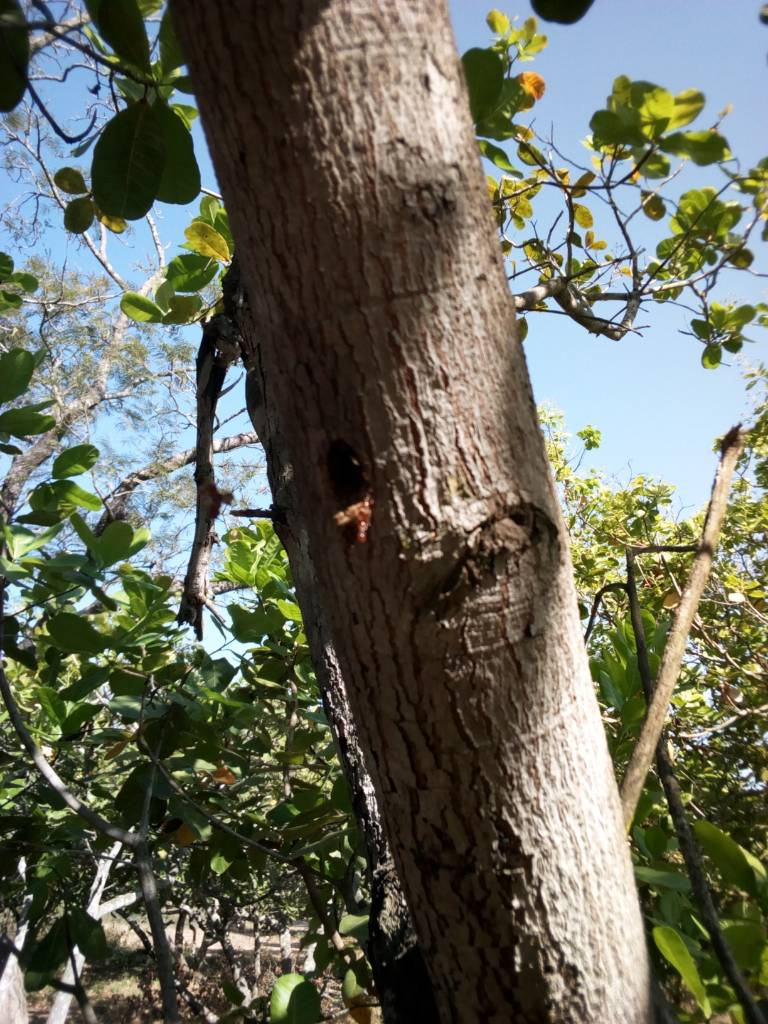Apate terebrans: (233, 361, 515, 691)
